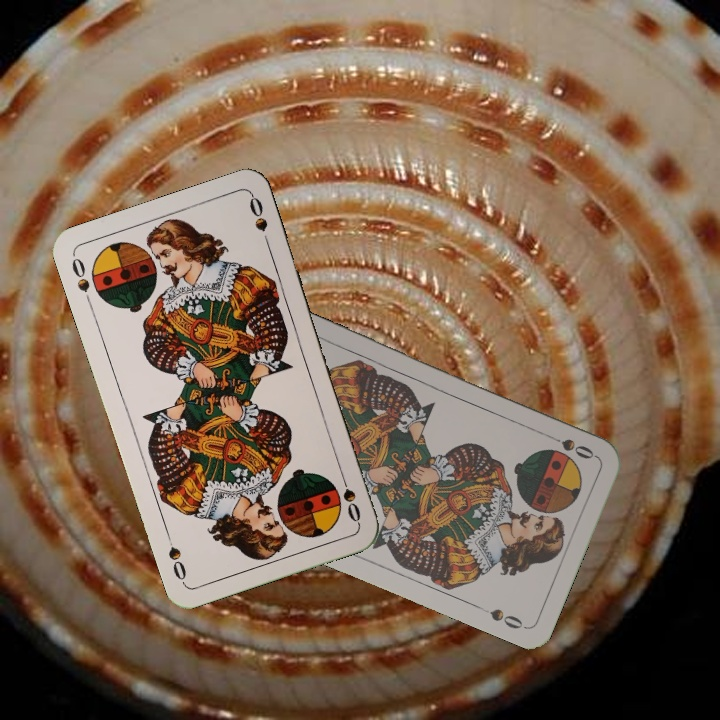SO: (542, 429, 598, 462), (336, 468, 363, 525), (68, 252, 93, 295)
